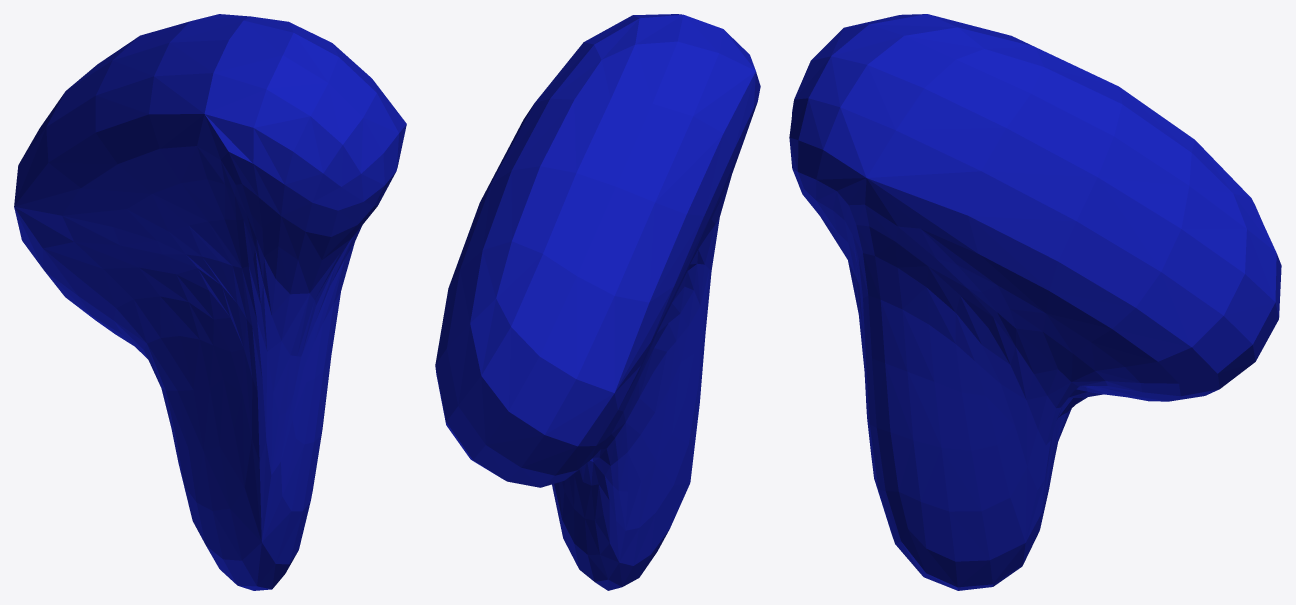
3 views of the same model, side by side, from view 1: azimuth 30°, elevation 25°; view 2: azimuth 150°, elevation 25°; view 3: azimuth 270°, elevation 25° (orthographic). The views are drawn at different scales.
Parts seen in each view (by area): view 1: 258_Cube.1057; view 2: 258_Cube.1057; view 3: 258_Cube.1057.
Part boxes in pixels (x1,y1,x2,y2): 258_Cube.1057: [14, 14, 406, 590]; 258_Cube.1057: [435, 14, 760, 590]; 258_Cube.1057: [789, 14, 1281, 590].
Bounding box in the file's own units: 5.24 × 12.84 × 10.22.
